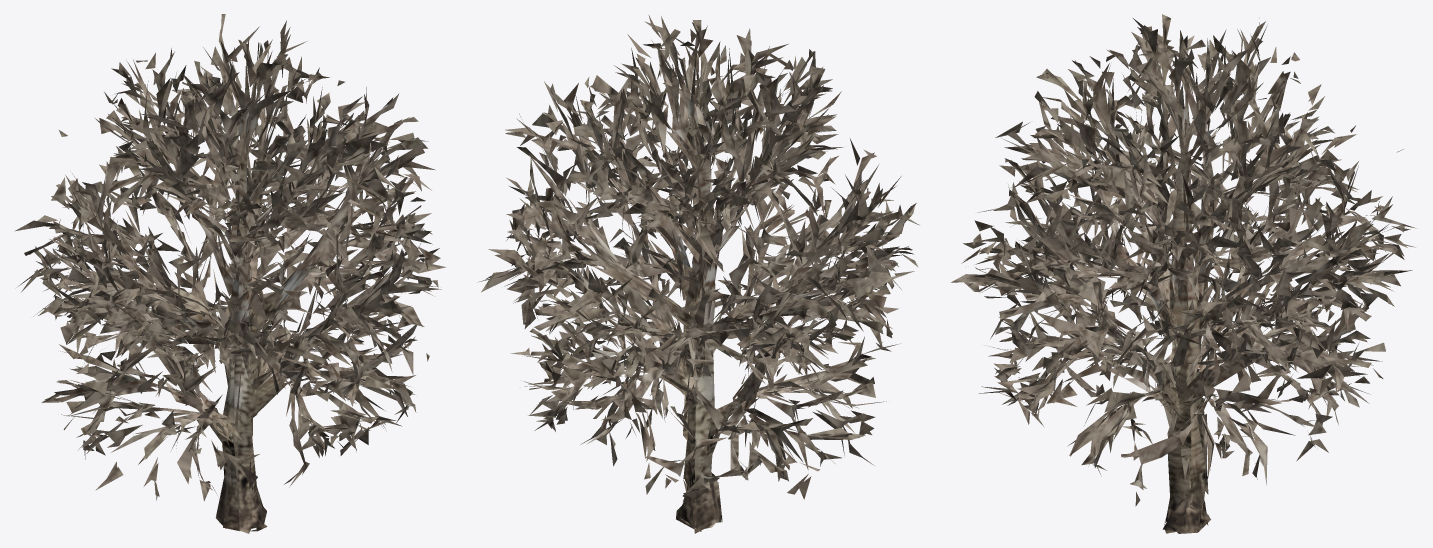
Rendered from unified--detail--winter-tree.glb.
3 views of the same model, side by side, from view 1: azimuth 30°, elevation 25°; view 2: azimuth 150°, elevation 25°; view 3: azimuth 270°, elevation 25° (orthographic). The views are drawn at different scales.
Visible parts, largest first — view 1: winter-tree-1; view 2: winter-tree-1; view 3: winter-tree-1.
Part boxes in pixels (x1=…): winter-tree-1: x1=14, y1=14, x2=446, y2=533; winter-tree-1: x1=478, y1=15, x2=919, y2=533; winter-tree-1: x1=951, y1=14, x2=1416, y2=533.
Size of the model in its own units: 6.63 by 8.12 by 6.82.
Materials: 1 (1 with a texture image).
